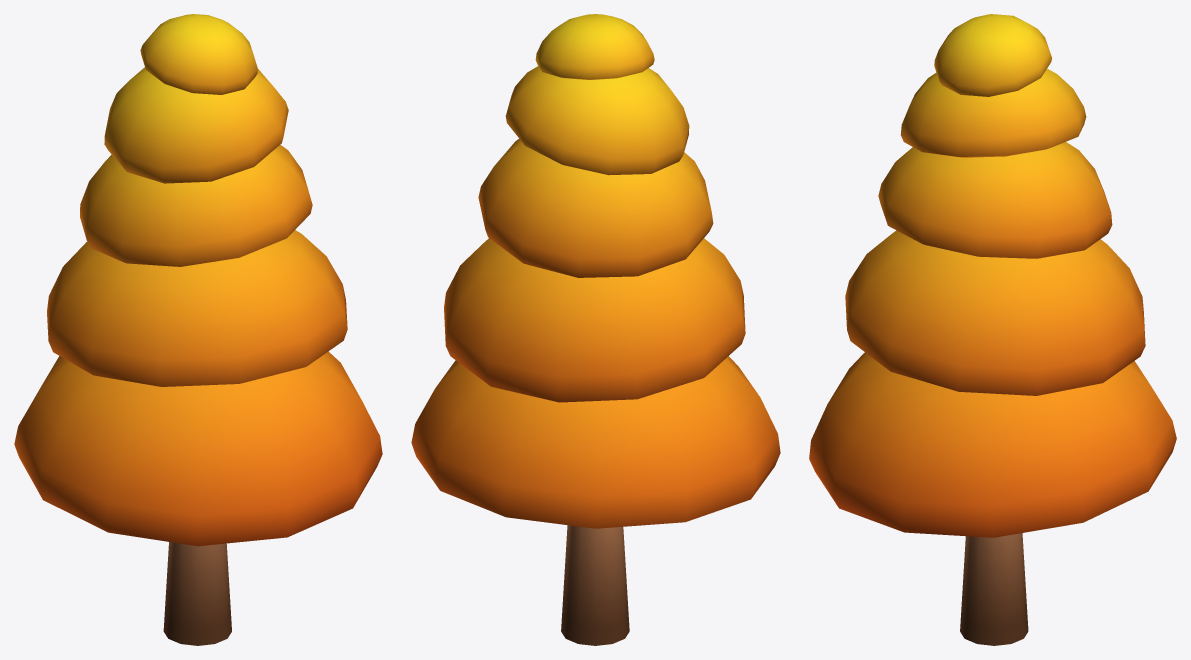
Rendered from lpb_tree_3_b.fbx.
The picture shows the model from 3 angles, left to right: view 1: azimuth 30°, elevation 25°; view 2: azimuth 150°, elevation 25°; view 3: azimuth 270°, elevation 25°; orthographic projection.
Parts seen in each view (by area): view 1: ap_tree_3.001; view 2: ap_tree_3.001; view 3: ap_tree_3.001.
Boxes of the visible parts, bbox=[...] form: ap_tree_3.001: bbox=[14, 14, 382, 645]; ap_tree_3.001: bbox=[411, 14, 780, 645]; ap_tree_3.001: bbox=[809, 14, 1176, 645].
Bounding box in the file's own units: 293 × 536 × 293.
